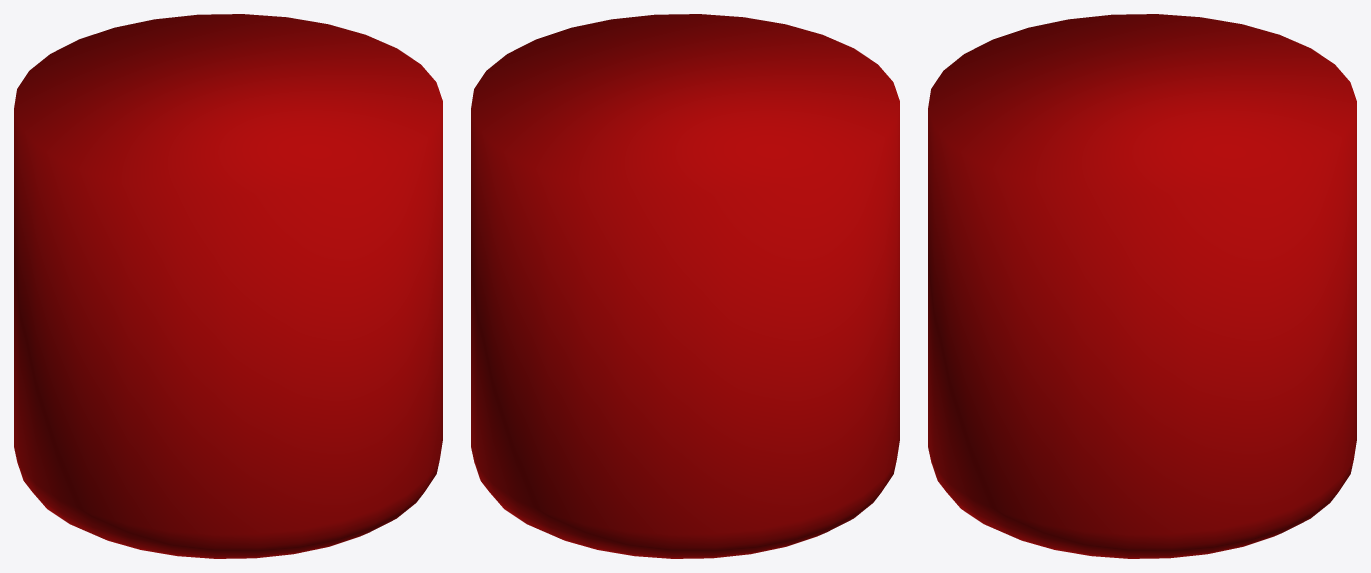
The model's file is SM_甲基红液体.fbx.
3 views of the same model, side by side, from view 1: azimuth 30°, elevation 25°; view 2: azimuth 150°, elevation 25°; view 3: azimuth 270°, elevation 25° (orthographic).
Parts seen in each view (by area): view 1: SM_甲基红液体; view 2: SM_甲基红液体; view 3: SM_甲基红液体.
Boxes of the visible parts, x1,y1,x2,y2 form: SM_甲基红液体: (14, 14, 442, 558); SM_甲基红液体: (471, 14, 899, 558); SM_甲基红液体: (928, 14, 1356, 558).
Bounding box in the file's own units: 0.0466 × 0.0454 × 0.0467.
